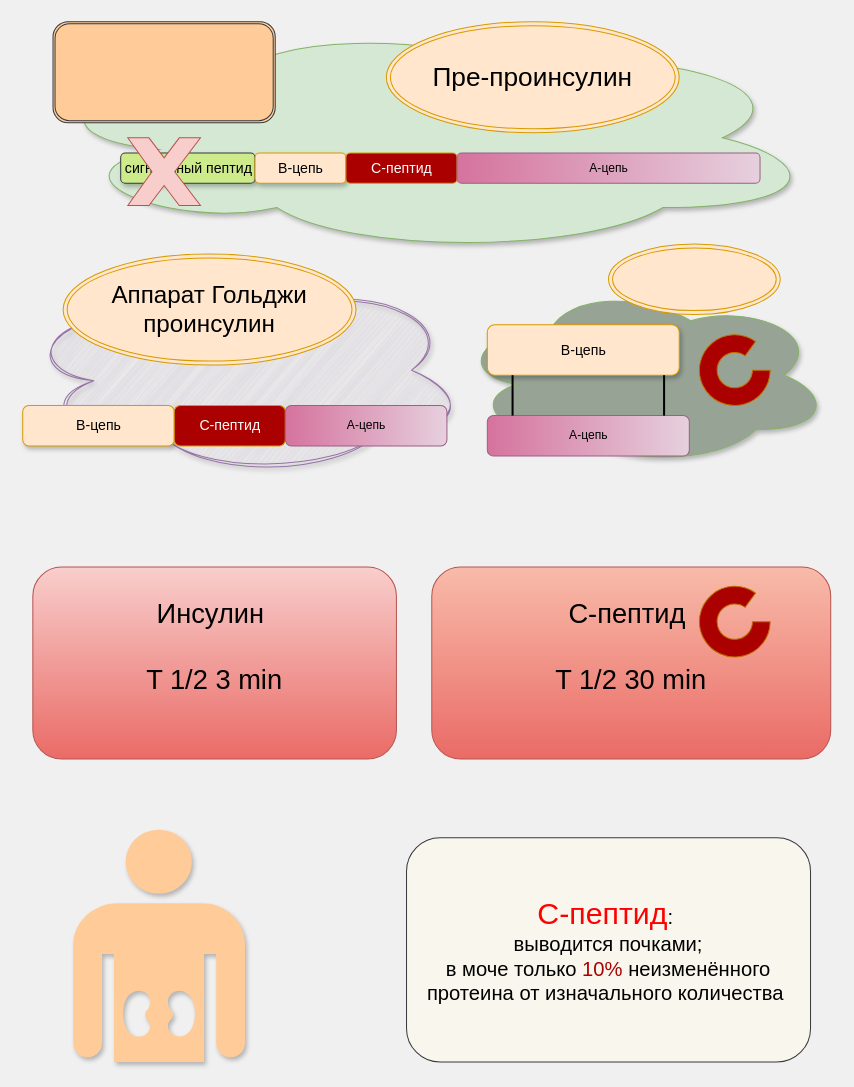
This 854x1087 diagram has some shape labels left out. The shapes that lost their labels are listed below. From the top down, each one's centre as x and y in pixels, then its label:
(x=163, y=72): Эндоплазматический ретикулюм
(x=694, y=279): гранула
